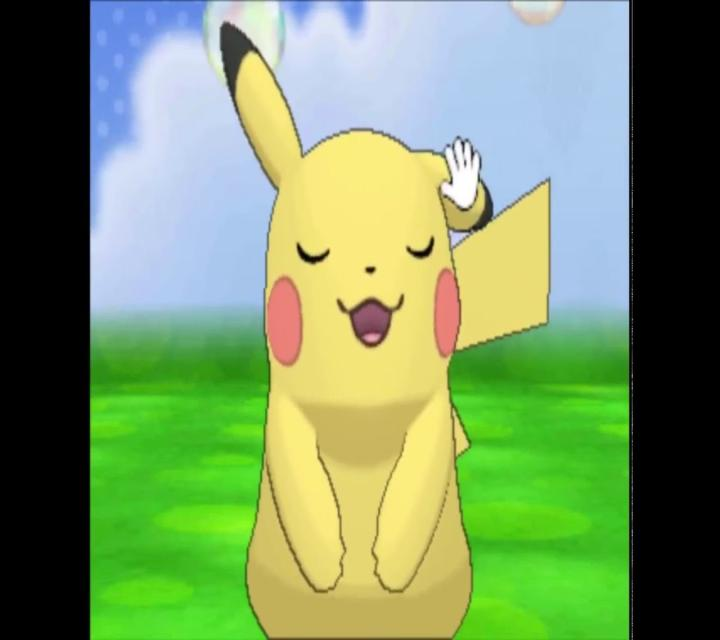Pikachu: (210, 23, 554, 631)
